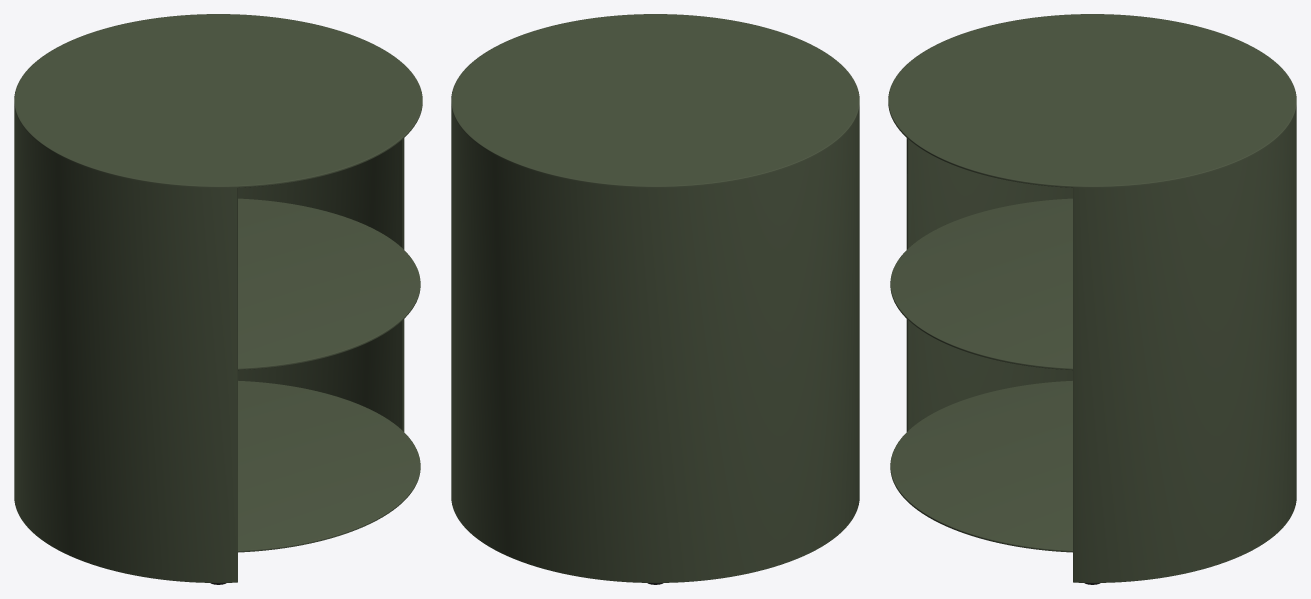
Rendered from tumbochka.glb.
3 views of the same model, side by side, from view 1: azimuth 30°, elevation 25°; view 2: azimuth 150°, elevation 25°; view 3: azimuth 270°, elevation 25° (orthographic).
Visible parts, largest first — view 1: rb_tumbochka; view 2: rb_tumbochka; view 3: rb_tumbochka.
Part boxes in pixels (bbox=[...]): rb_tumbochka: bbox=[14, 14, 422, 584]; rb_tumbochka: bbox=[451, 14, 859, 584]; rb_tumbochka: bbox=[888, 14, 1296, 584].
Bounding box in the file's own units: 0.38 × 0.41 × 0.38.
